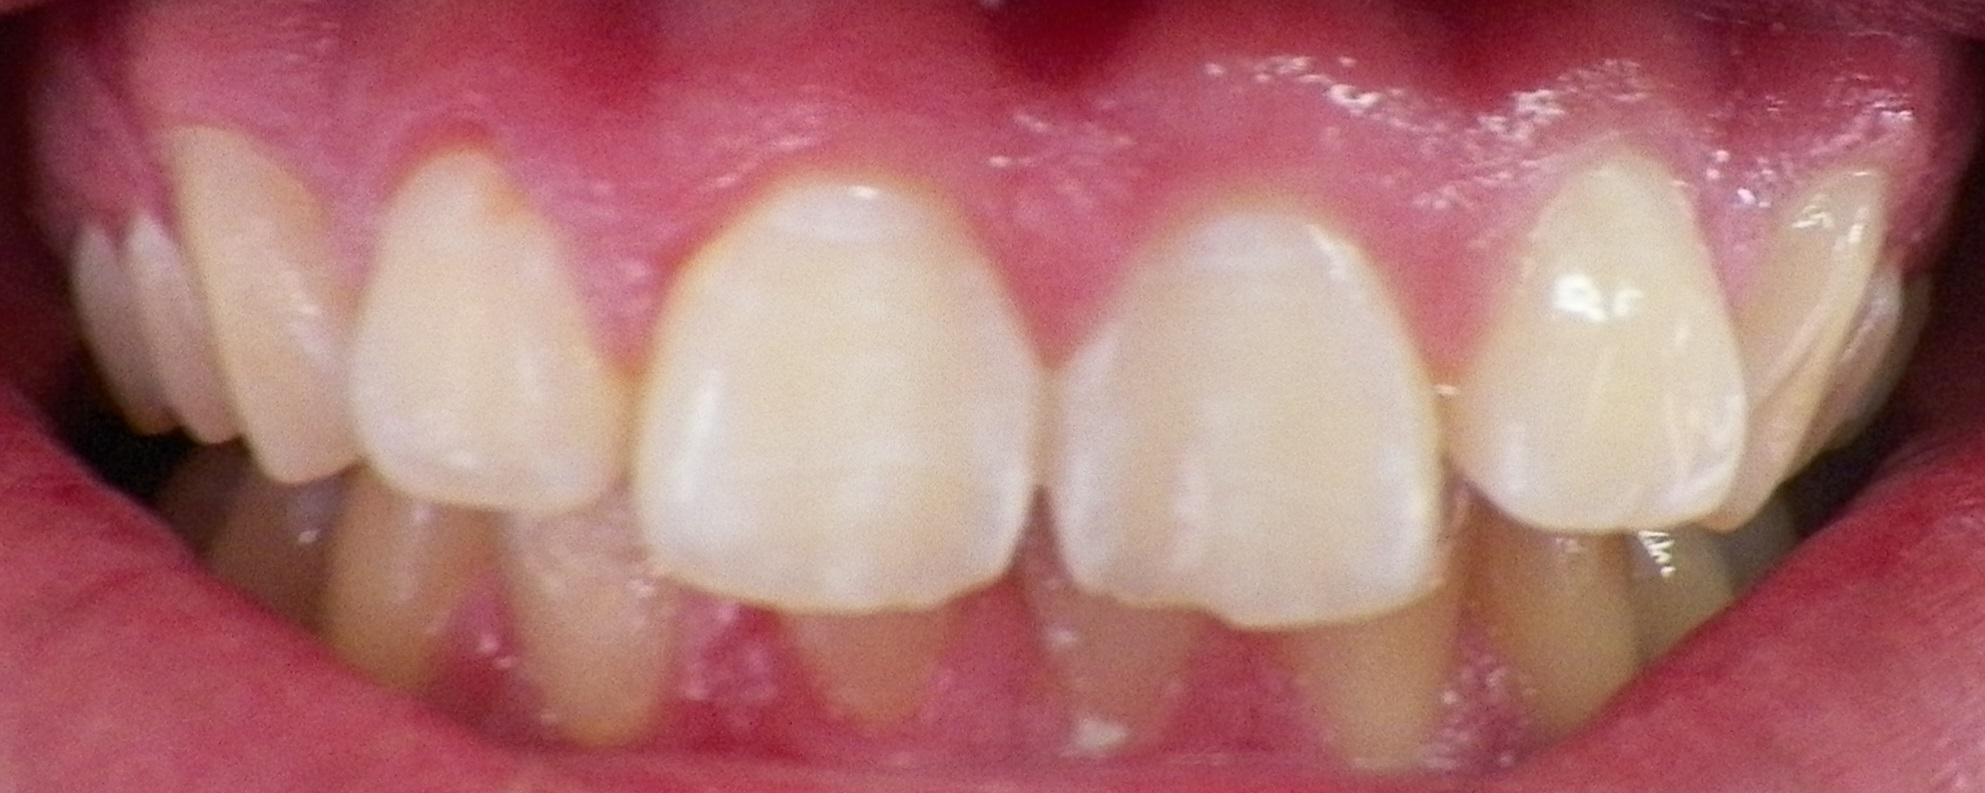boca: (71, 157, 1869, 765)
